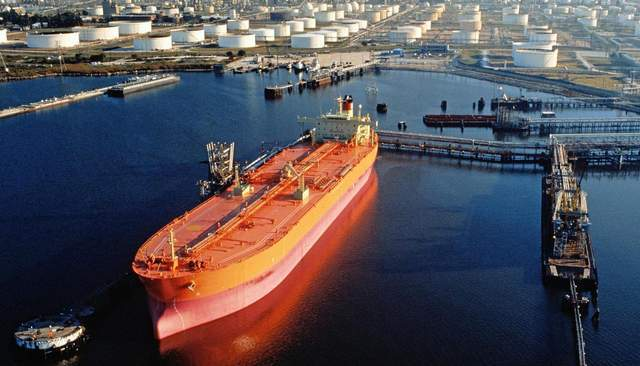Cargoship: (134, 95, 379, 340)
